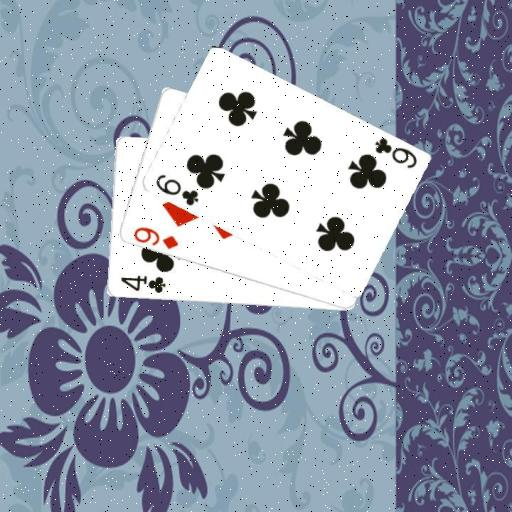4C: (117, 273, 167, 295)
6C: (152, 172, 200, 208), (371, 134, 419, 170)
9D: (130, 224, 180, 251)
